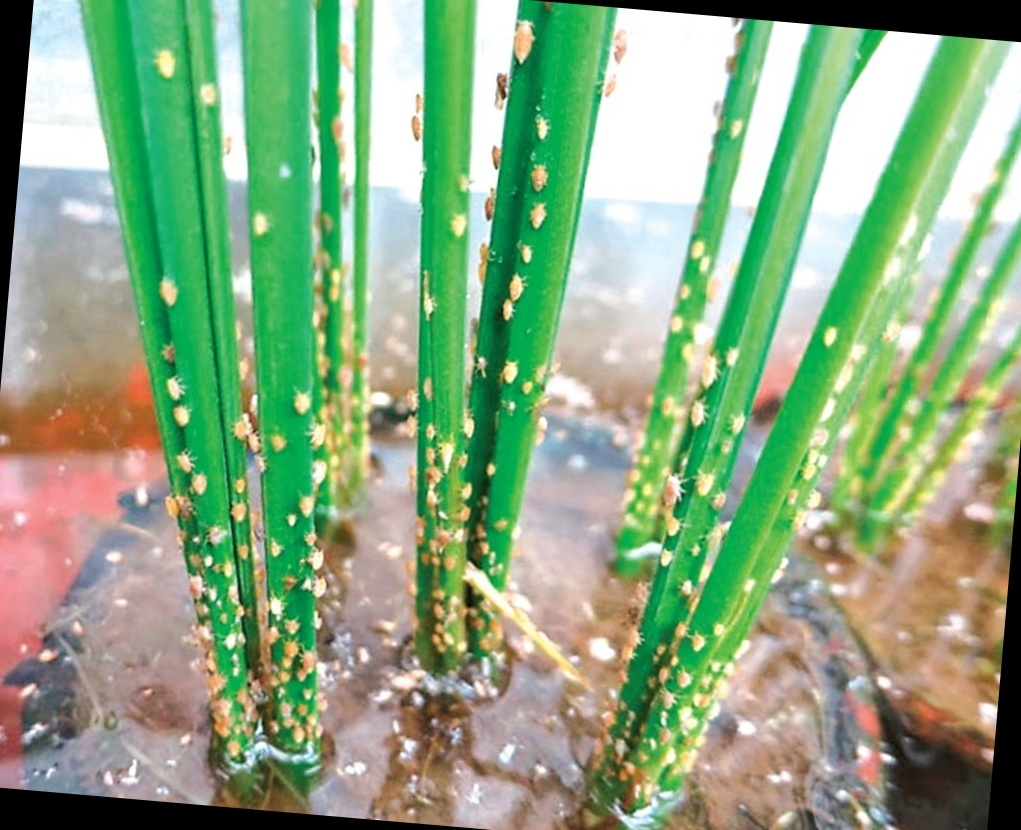Brown_hopper: (501, 20, 539, 70), (694, 345, 720, 395), (402, 110, 430, 149), (153, 275, 184, 308), (647, 545, 679, 573), (682, 401, 714, 429), (613, 25, 631, 74), (687, 470, 717, 498), (525, 197, 547, 235), (164, 404, 196, 430), (681, 630, 713, 655), (156, 47, 176, 83), (157, 497, 181, 527), (797, 456, 821, 482), (180, 444, 195, 478), (293, 388, 312, 412), (505, 295, 516, 330), (277, 645, 296, 659)
